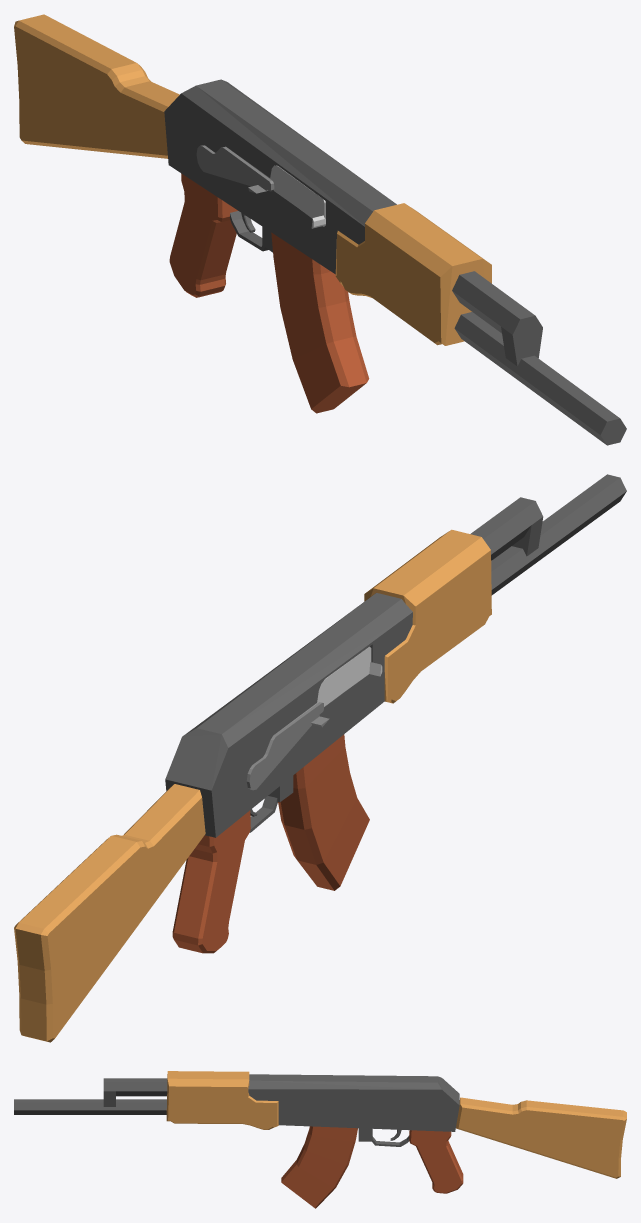
The picture shows the model from 3 angles, top to bottom: view 1: azimuth 30°, elevation 25°; view 2: azimuth 150°, elevation 25°; view 3: azimuth 270°, elevation 25°; orthographic projection. The views are drawn at different scales.
Parts seen in each view (by area): view 1: StvolBox, Priklad, HendGuard, Magazin, Rukoiat, Predahranitel, Zatvor; view 2: StvolBox, Priklad, HendGuard, Magazin, Rukoiat, Predahranitel, Zatvor; view 3: StvolBox, Priklad, HendGuard, Magazin, Rukoiat.
Part boxes in pixels (left/top/right/bottom): StvolBox: left=164, top=79, right=626, bottom=445; Priklad: left=14, top=14, right=179, bottom=158; HendGuard: left=335, top=203, right=491, bottom=345; Magazin: left=271, top=232, right=369, bottom=413; Rukoiat: left=169, top=173, right=237, bottom=297; Predahranitel: left=196, top=145, right=274, bottom=193; Zatvor: left=227, top=147, right=325, bottom=228; StvolBox: left=165, top=474, right=626, bottom=837; Priklad: left=14, top=784, right=205, bottom=1042; HendGuard: left=364, top=529, right=491, bottom=703; Magazin: left=278, top=734, right=369, bottom=890; Rukoiat: left=172, top=810, right=250, bottom=953; Predahranitel: left=246, top=702, right=329, bottom=790; Zatvor: left=274, top=646, right=382, bottom=734; StvolBox: left=14, top=1074, right=459, bottom=1146; Priklad: left=456, top=1097, right=626, bottom=1178; HendGuard: left=166, top=1071, right=278, bottom=1129; Magazin: left=281, top=1126, right=357, bottom=1208; Rukoiat: left=409, top=1130, right=463, bottom=1193.
Bounding box in the file's own units: 524 × 2022 × 8512.
